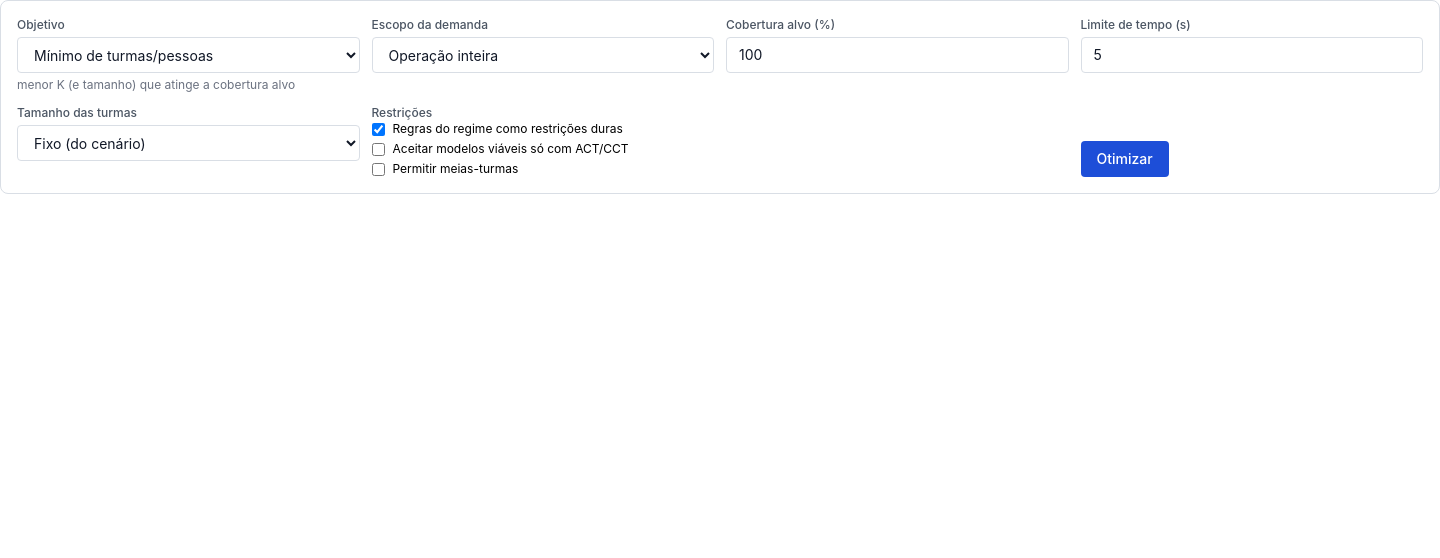
Scenario: Painel Otimizar (v3.7) › K para defasagem/fairness e ranking de modelos
Select "Equilíbrio de folgas/noites/domingos" in the dropdown labelled "Objetivo" at coordinates (188, 55), box [17,37,360,73]
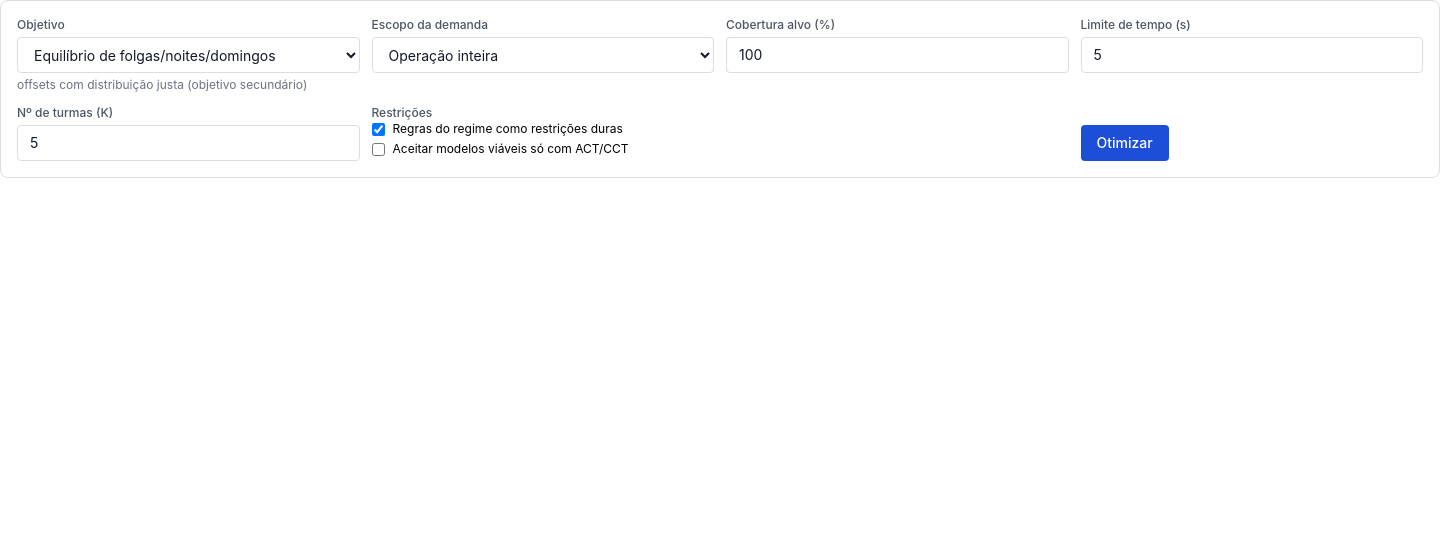
Expected: the number field labelled "Nº de turmas (K)" holds "5", [17,125,360,161]
Select "Melhor modelo de escala" in the dropdown labelled "Objetivo" at coordinates (188, 55), box [17,37,360,73]
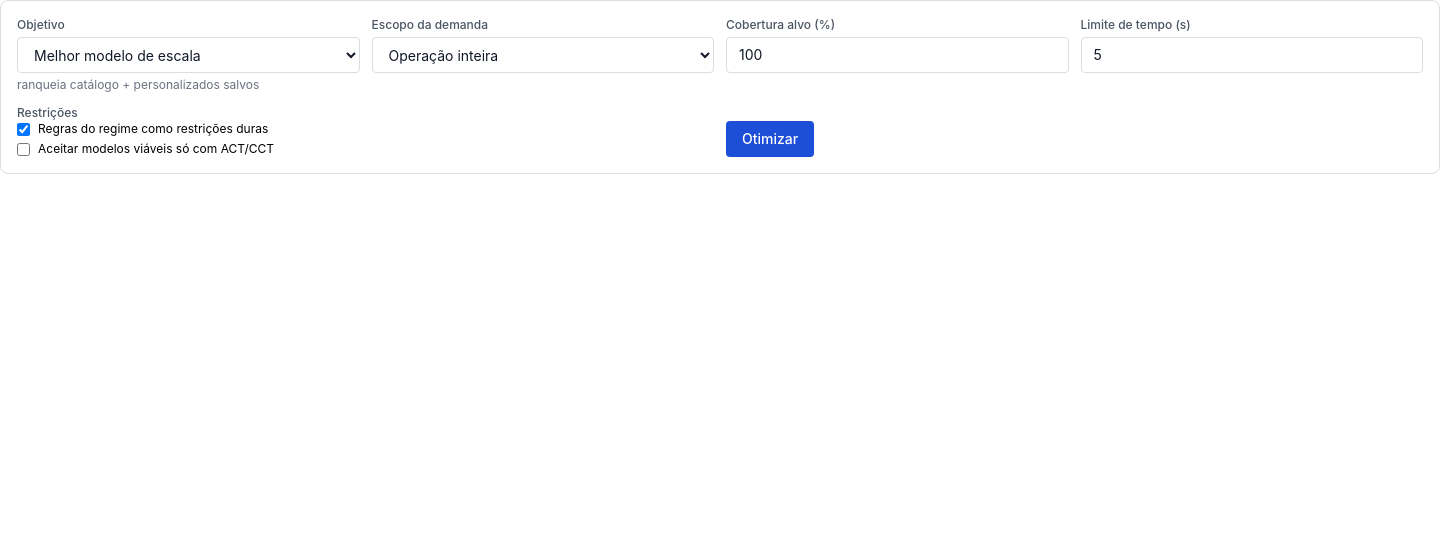
Expected: the label labelled "Nº de turmas (K)" is gone
Click the button "Otimizar".
click(770, 139)  # box [726,121,814,157]
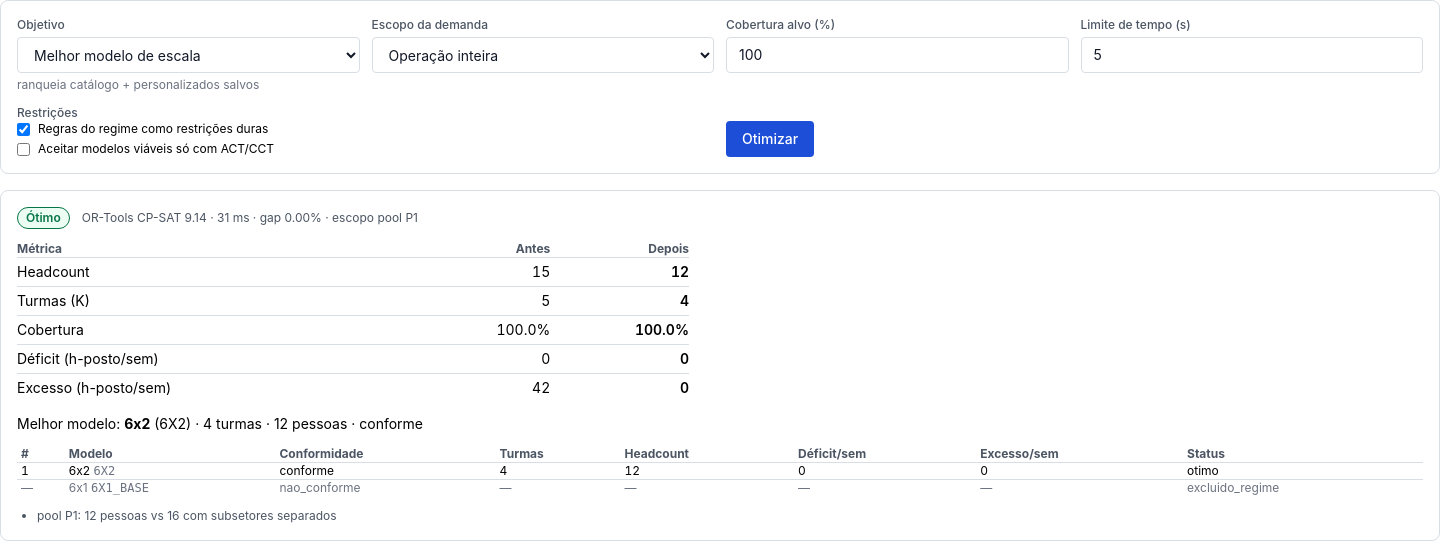
Expected: the table named "Ranking de modelos" shows "excluido_regime", [1187,480,1279,495]
Expected: the text "Melhor modelo: 6x2 (6X2) · 4 turmas · 12 pessoas · conforme" is shown, [17,415,423,432]
